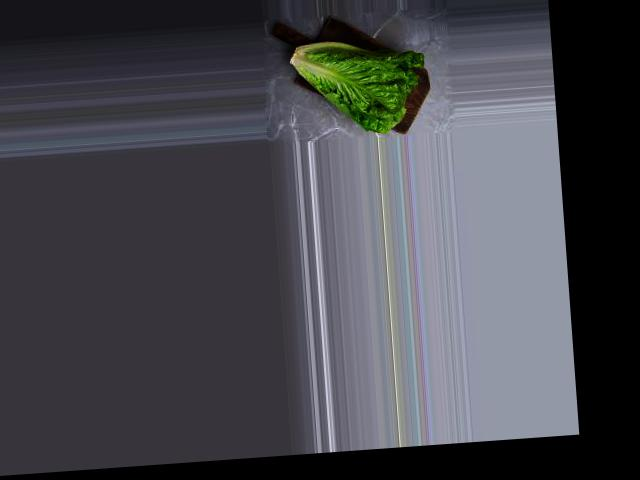lettuce: (263, 7, 430, 138)
